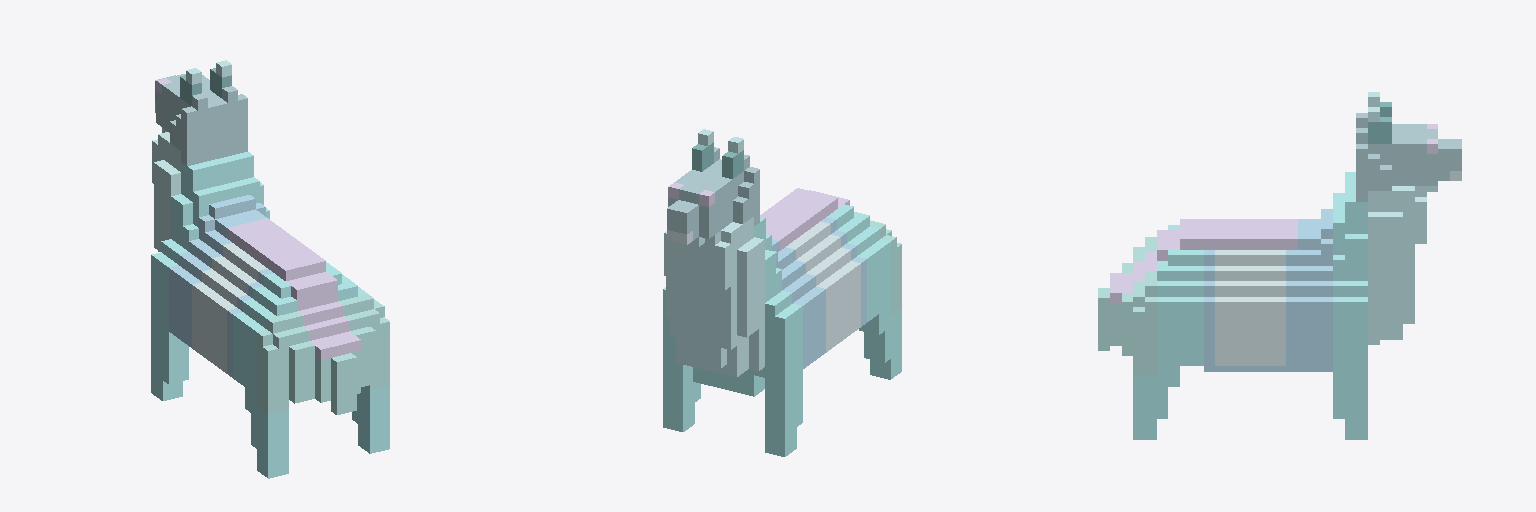
3 renders of one model, left to right at view 1: azimuth 30°, elevation 25°; view 2: azimuth 150°, elevation 25°; view 3: azimuth 270°, elevation 25°, orthographic.
Bounding box in the file's own units: 12 × 29 × 31.
1 materials, 1 textured.